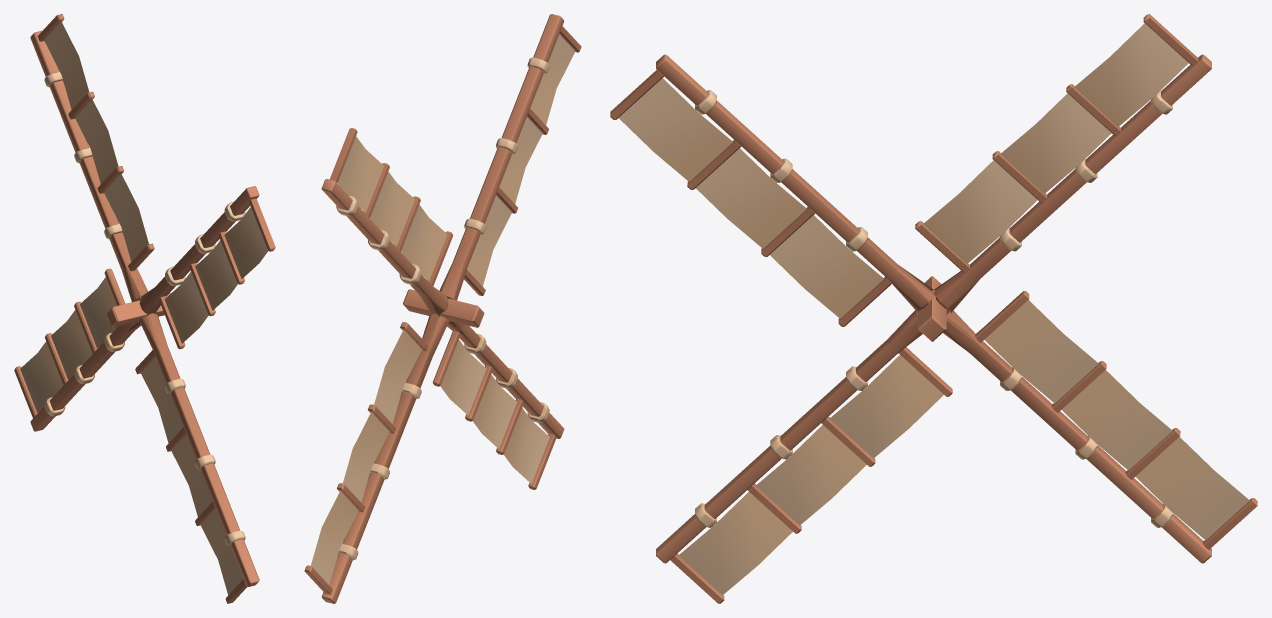
File: kenney-fantasy-town__windmill.glb
3 views of the same model, side by side, from view 1: azimuth 30°, elevation 25°; view 2: azimuth 150°, elevation 25°; view 3: azimuth 270°, elevation 25° (orthographic). The views are drawn at different scales.
Visible parts, largest first — view 1: windmill; view 2: windmill; view 3: windmill.
Boxes of the visible parts, <box> form: windmill: <box>14,14,275,603</box>; windmill: <box>304,14,581,603</box>; windmill: <box>610,14,1257,603</box>.
Bounding box in the file's own units: 0.471 × 3.1 × 3.1.
Materials: 1 (1 with a texture image).
